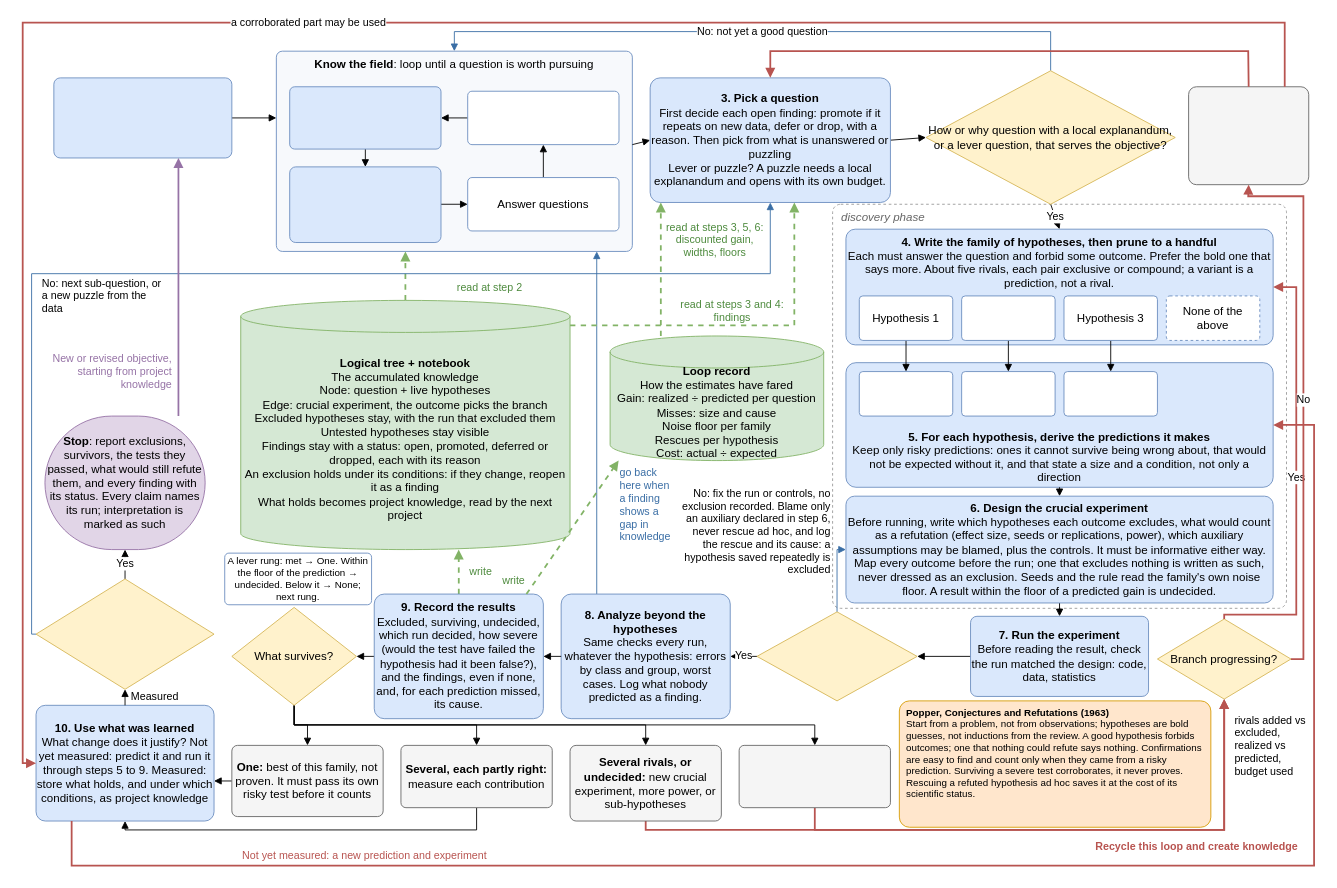
Image size: 1337x888. Some labels were removed from this diagram. The shapes that lost their labels are listed below. From the top down, each one's centre as x and y in pixels, then its label:
the point at 142,117: 0. Define the objective Root of the tree, stop criterion, budget
the point at 365,117: 1. Write down questions to guide the literature review
the point at 543,117: Refine questions
the point at 1248,135: Parked: write the current answer, mark rivals untested, pick another question
the point at 365,204: 2. Literature review, observations, pilots and baselines
the point at 1008,317: Hypothesis 2
the point at 905,393: Predictions of H1
the point at 1008,393: Predictions of H2
the point at 1110,393: Predictions of H3
the point at 124,633: Objective met, budget spent, or objective wrong?
the point at 836,656: Is the result clean?
the point at 814,776: None: the family was incomplete, add new hypotheses
